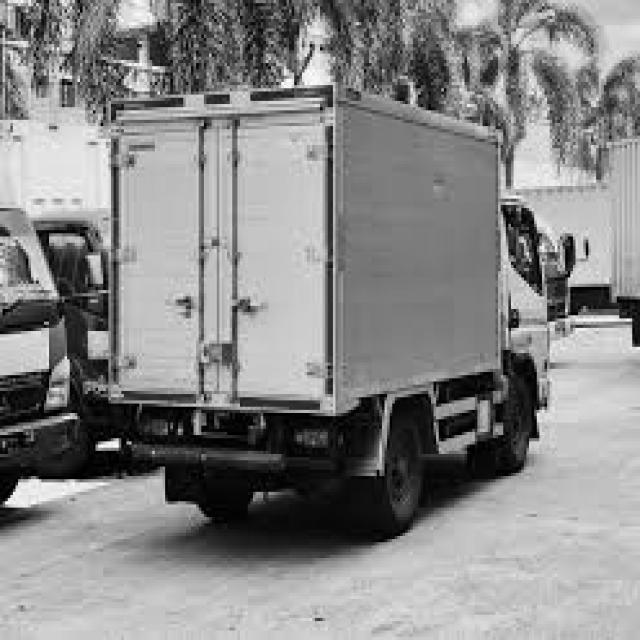truck: (97, 77, 587, 534)
